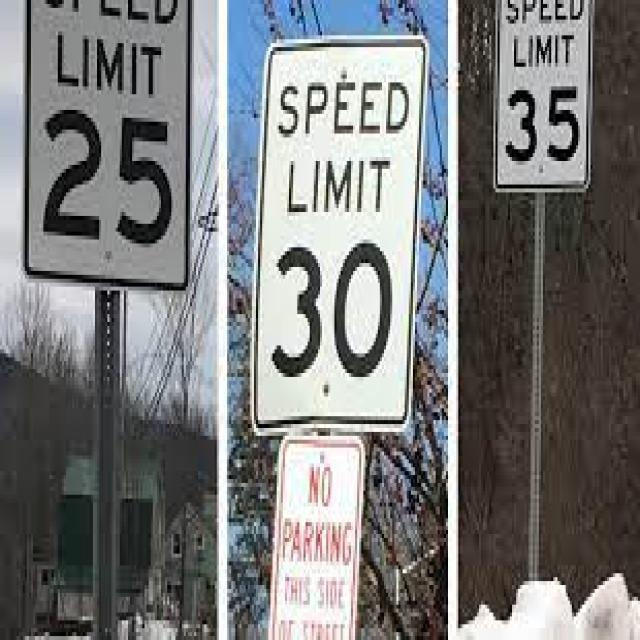speedLimit35: (254, 41, 425, 434)
